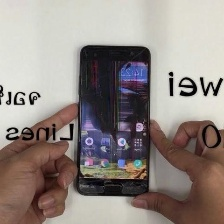phone: (72, 37, 154, 200)
